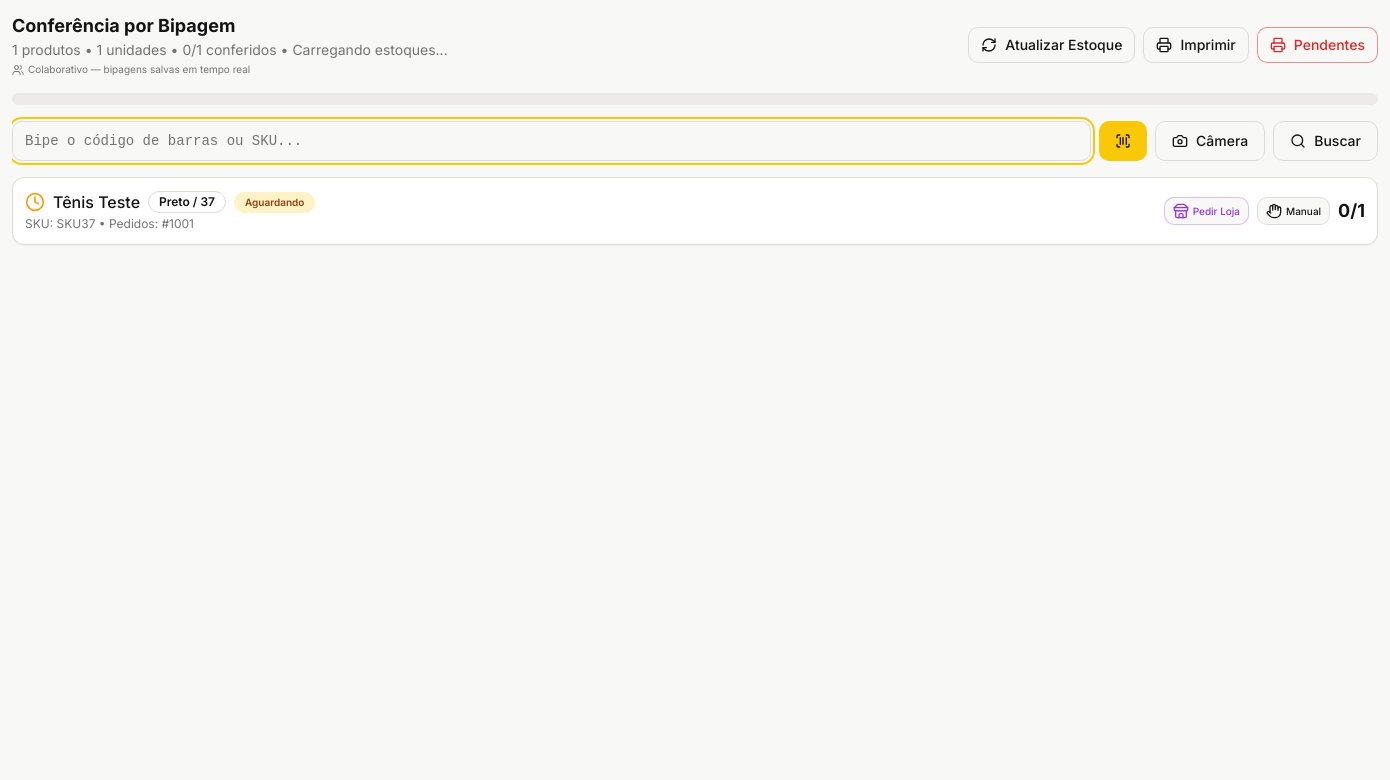
Test: separação › ExpeditionPickingList aceita a etiqueta nova
Type "T101-37" into the field with placeholder "Bipe o código de barras ou SKU..." at (552, 141), box 12,121 -> 1091,161
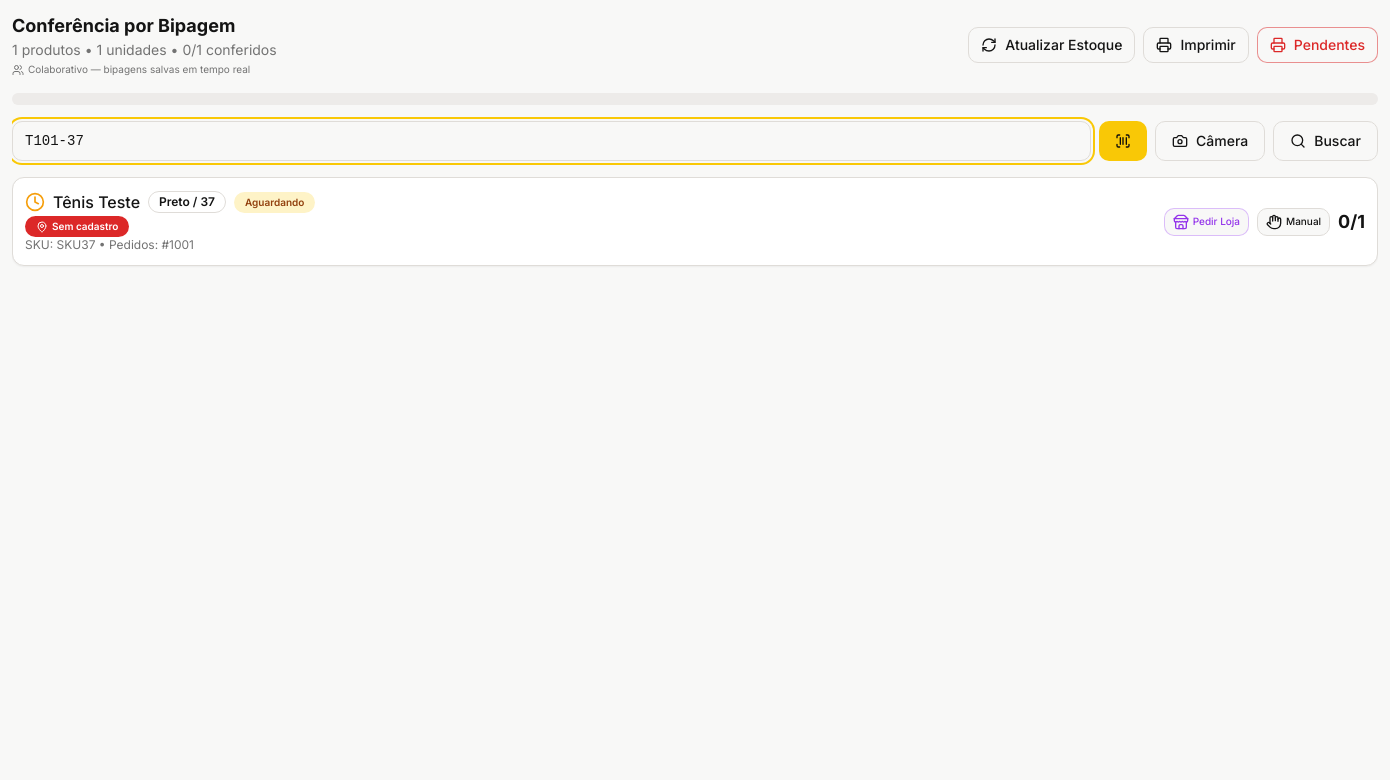
Press Enter in the field with placeholder "Bipe o código de barras ou SKU...", box 12,121 -> 1091,161
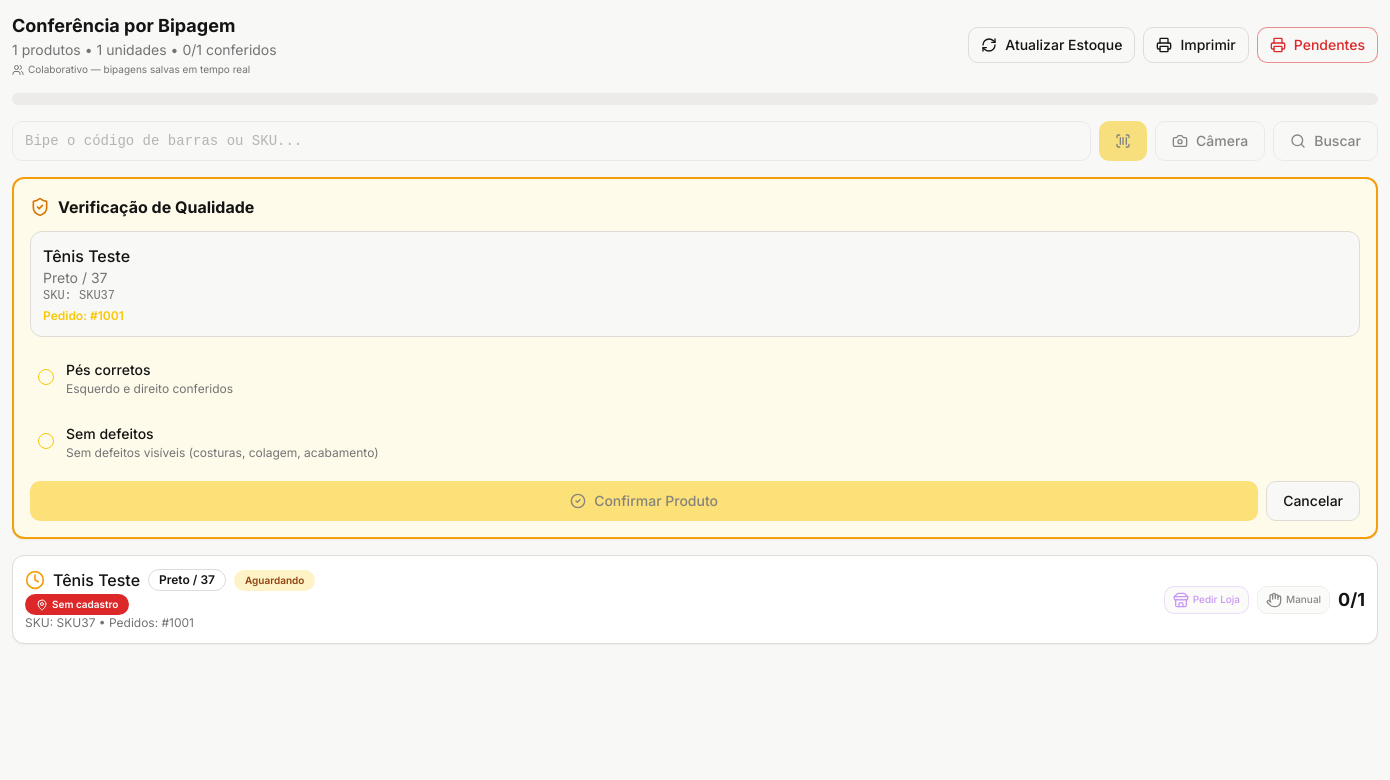
Now the heading "Verificação de Qualidade" is shown, box 58,195 -> 254,219
